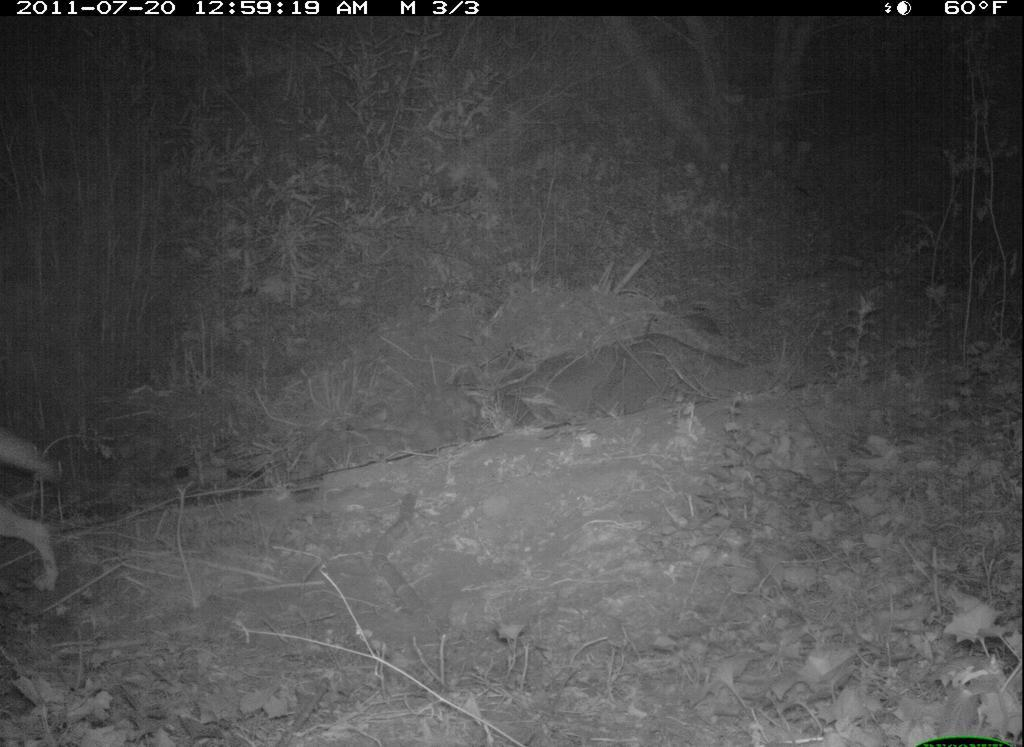coyote: (1, 423, 71, 599)
